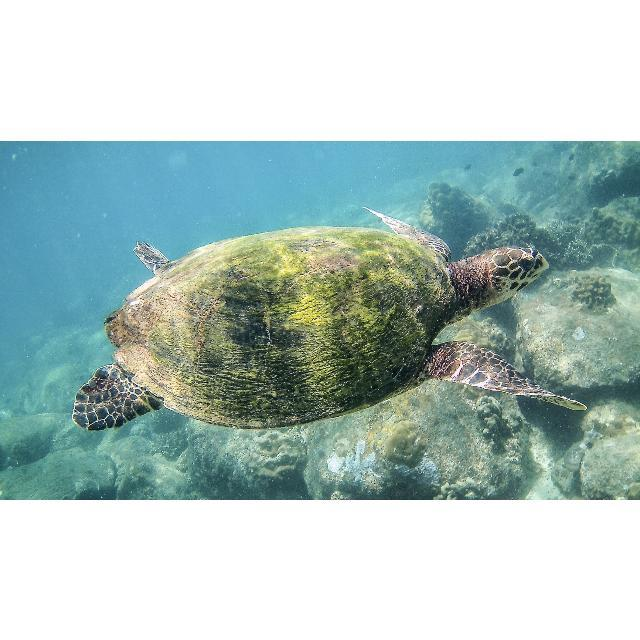turtle: (72, 207, 588, 429)
